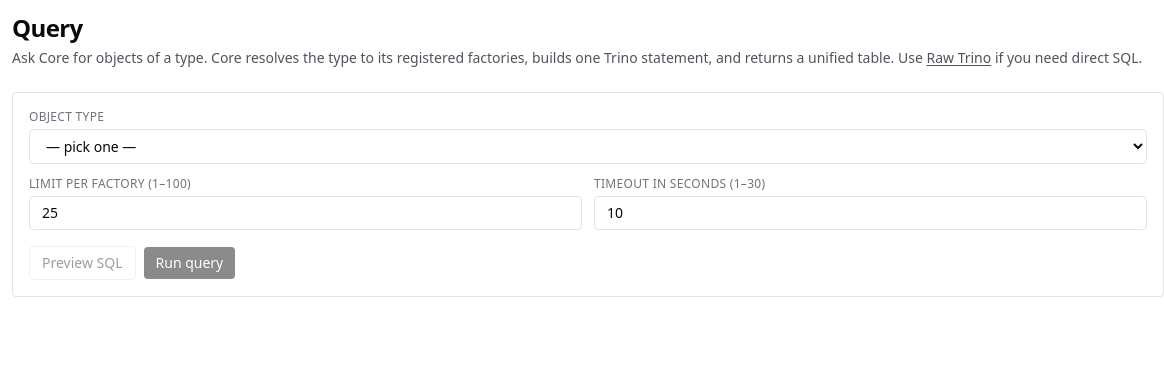
Test: Query page › 404 from server when type is unknown surfaces an error banner
This screenshot has width=1164, height=384.
Select "Company" in the dropdown with test id "from-select". click: point(588, 146)
box: [29,129,1147,164]
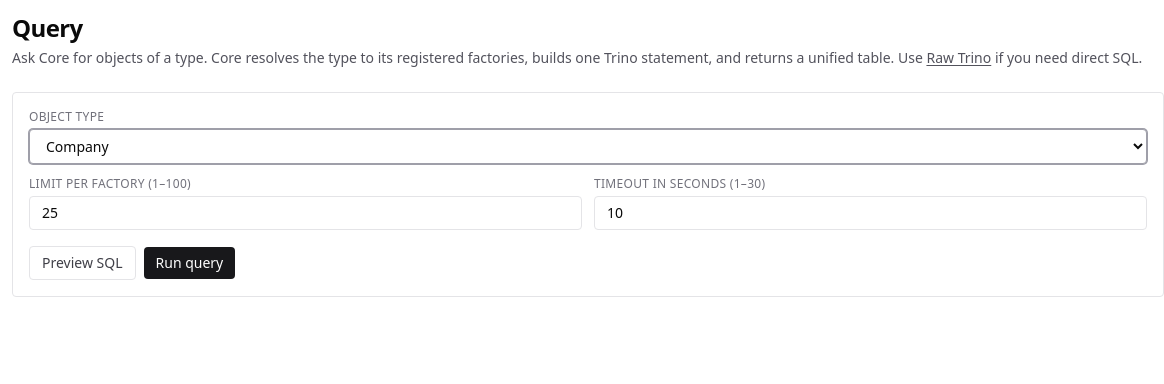
Click the button with test id "run-button". click: point(189, 263)
box: [144,247,235,279]
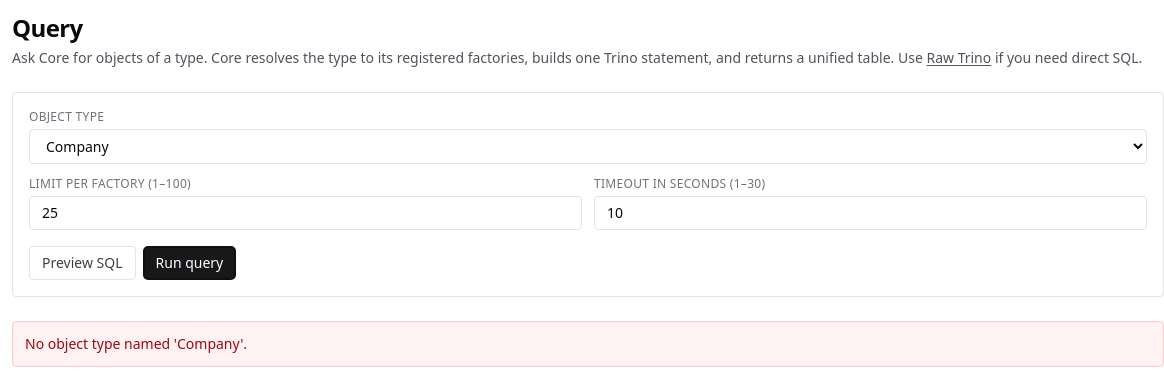
Expected: the text with test id "error-banner" shows "object type", [25,334,247,353]
